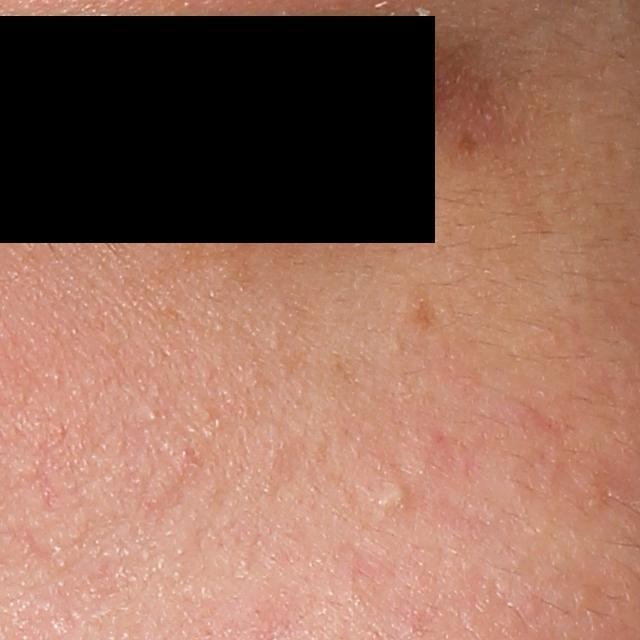comedo: (363, 471, 417, 521), (144, 405, 161, 425)
melasma: (393, 288, 451, 341), (447, 130, 486, 167)
